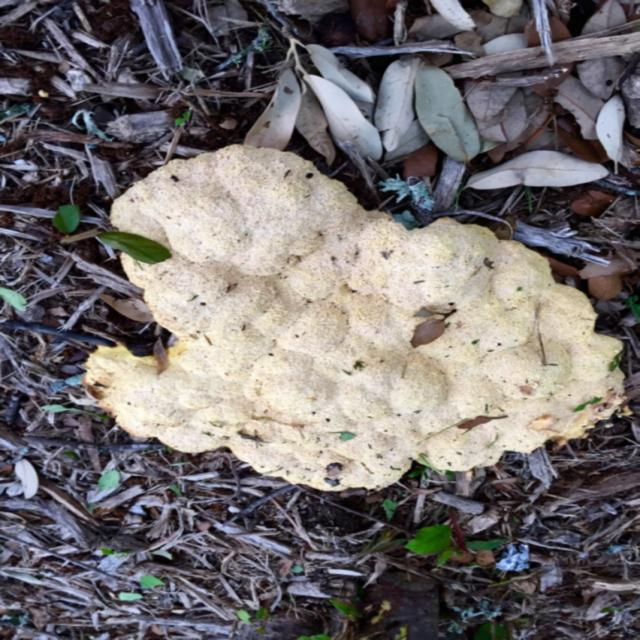Dog_vomit_slime_mold: (88, 120, 624, 505)
